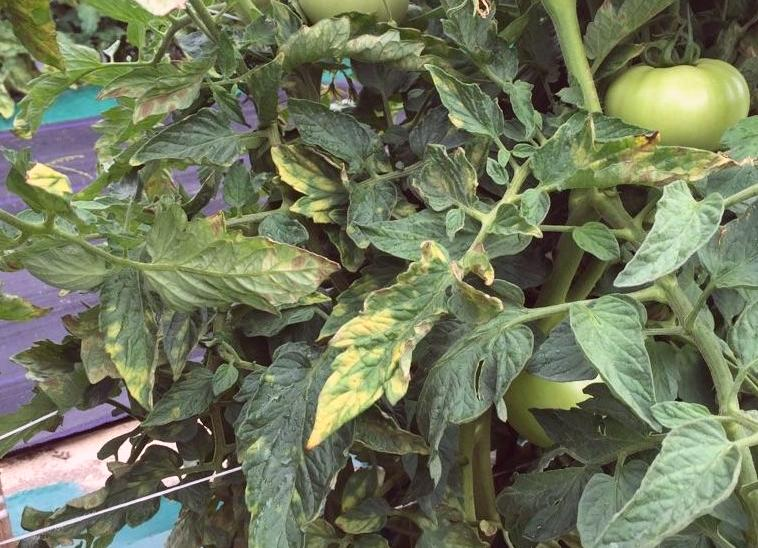Tomato mold leaf: (303, 256, 457, 449), (121, 195, 332, 321), (578, 420, 745, 544), (563, 288, 659, 434), (540, 118, 726, 190), (613, 183, 725, 295), (118, 100, 257, 175), (109, 261, 169, 409), (12, 234, 117, 293), (407, 144, 481, 221)
